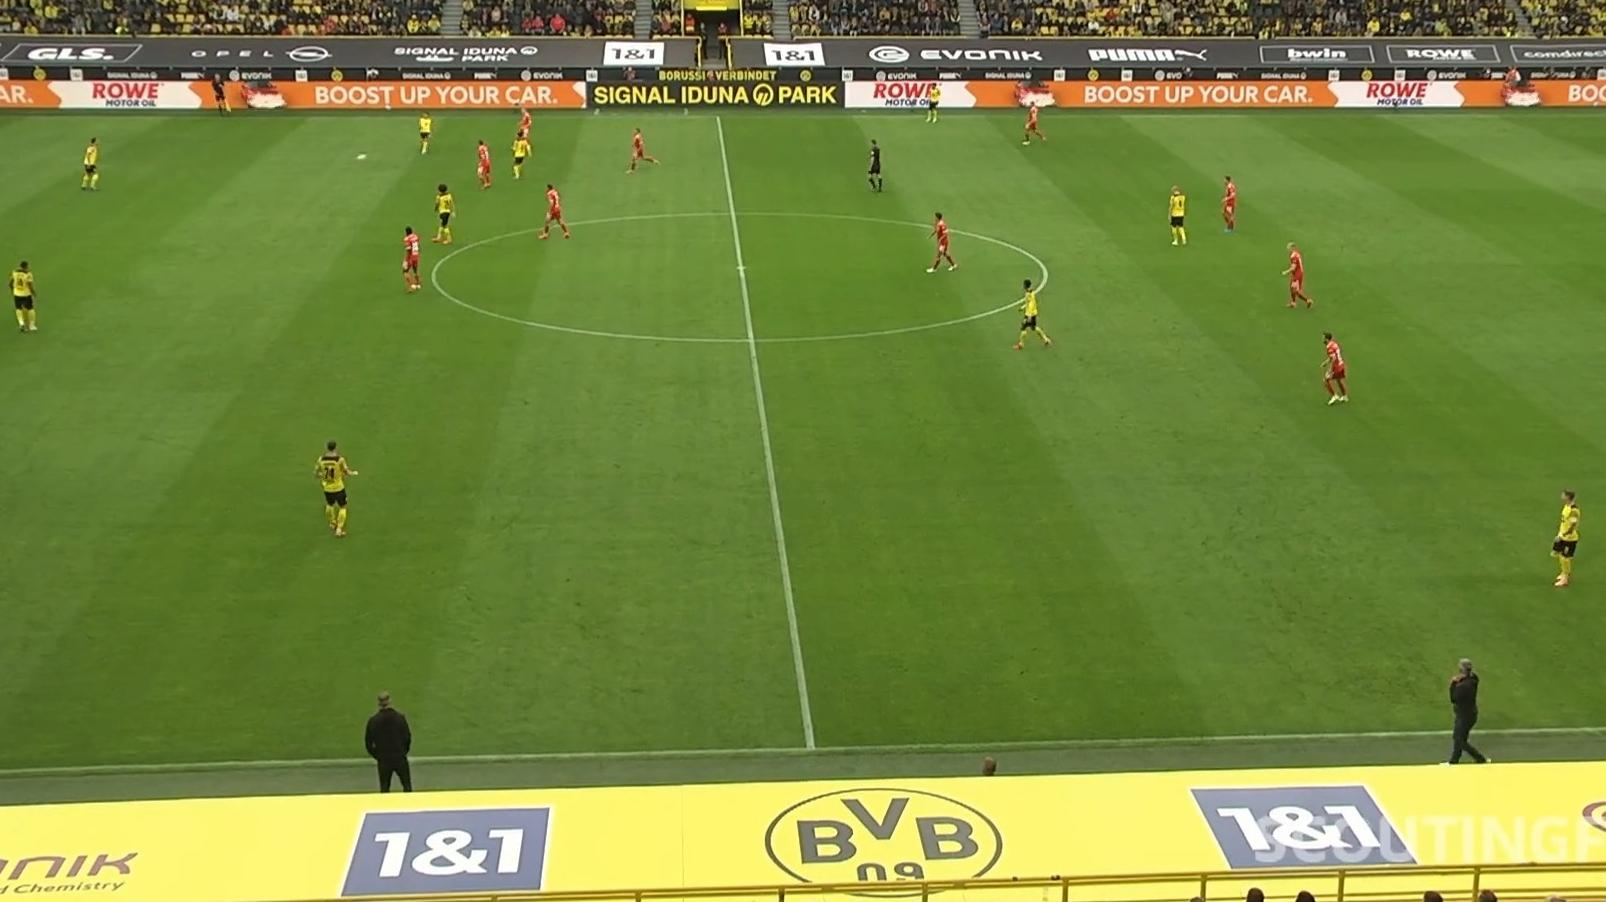ball: (355, 152, 368, 161)
